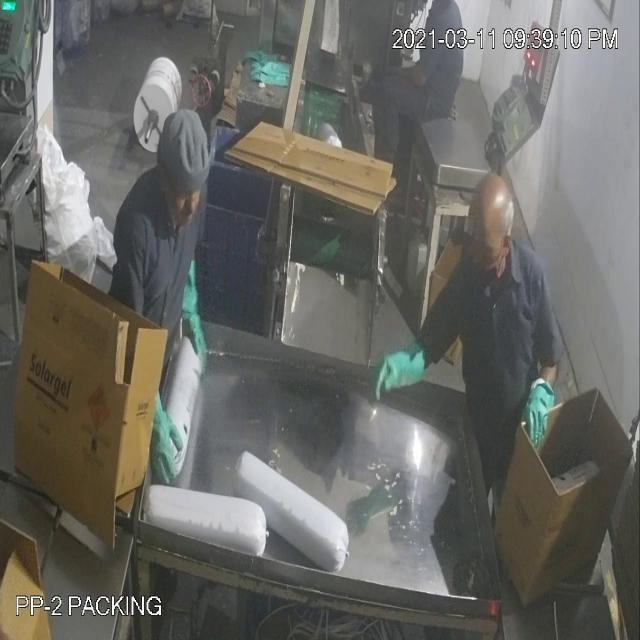Gloves: (34, 73, 541, 412)
